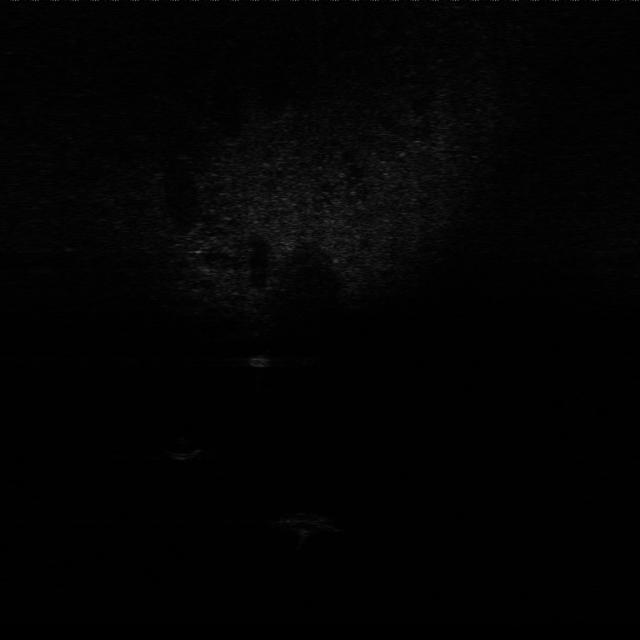ball: (166, 439, 207, 467)
circle cage: (271, 510, 348, 552)
cube: (246, 349, 276, 371)
